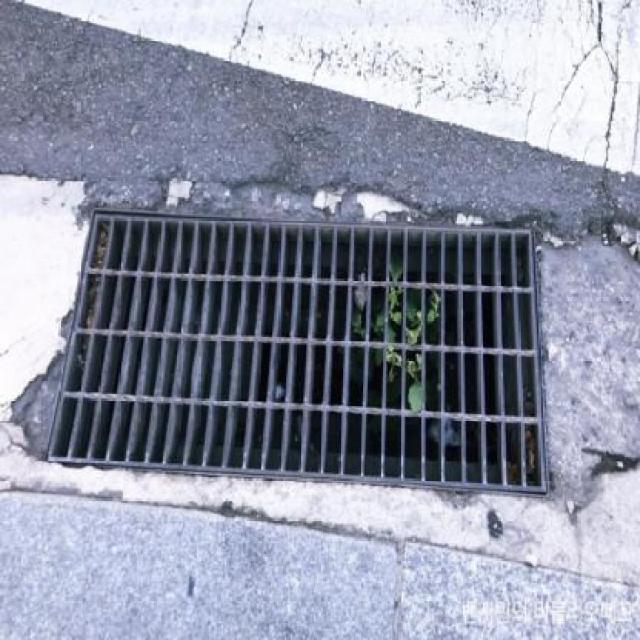Drain Hole: (59, 163, 579, 560)
